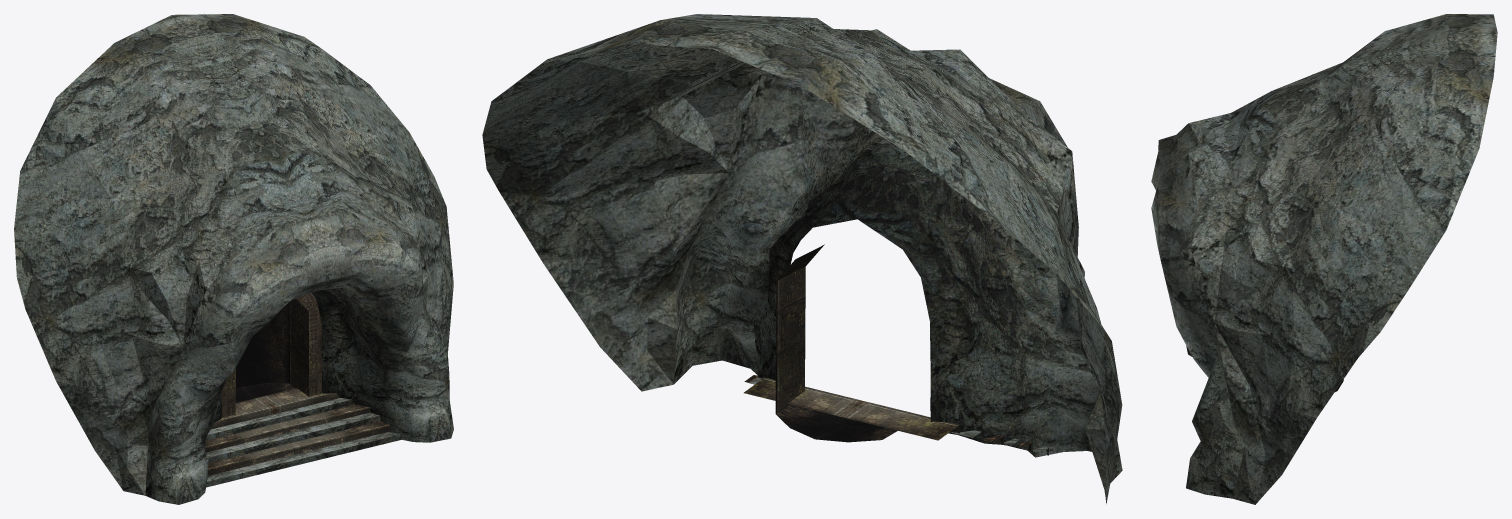
Rendered from gls_gate_01.fbx.
3 views of the same model, side by side, from view 1: azimuth 30°, elevation 25°; view 2: azimuth 150°, elevation 25°; view 3: azimuth 270°, elevation 25° (orthographic). The views are drawn at different scales.
Visible parts, largest first — view 1: gls_gate_01_gate_rock, gls_gate_01_gate_rock2, gls_gate_01_gate_bilid; view 2: gls_gate_01_gate_rock, gls_gate_01_gate_rock2, gls_gate_01_gate_bilid; view 3: gls_gate_01_gate_rock, gls_gate_01_gate_rock2.
Boxes of the visible parts, x1=… form: gls_gate_01_gate_rock: x1=14, y1=14, x2=453, y2=495; gls_gate_01_gate_rock2: x1=145, y1=209, x2=453, y2=504; gls_gate_01_gate_bilid: x1=205, y1=293, x2=389, y2=475; gls_gate_01_gate_rock: x1=482, y1=14, x2=1122, y2=503; gls_gate_01_gate_rock2: x1=673, y1=72, x2=1122, y2=482; gls_gate_01_gate_bilid: x1=744, y1=244, x2=1032, y2=451; gls_gate_01_gate_rock: x1=1188, y1=14, x2=1497, y2=504; gls_gate_01_gate_rock2: x1=1151, y1=123, x2=1244, y2=498.
Size of the model in its own units: 32.4 by 26.15 by 21.18.
